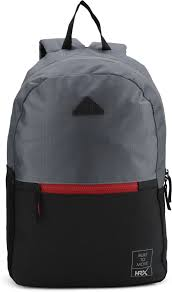backpack: (5, 0, 171, 287)
